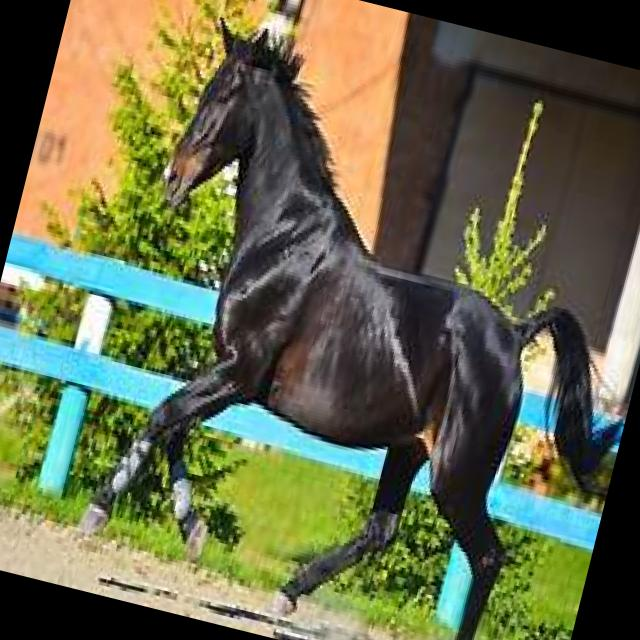animal: (59, 5, 640, 640)
